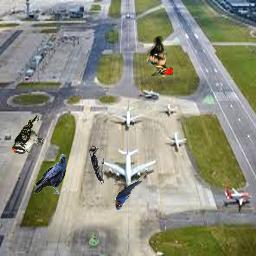Crow: (34, 154, 66, 194)
Swallow: (114, 171, 147, 211)
Woodpecker: (12, 115, 44, 155), (146, 36, 173, 76), (89, 146, 104, 186)
